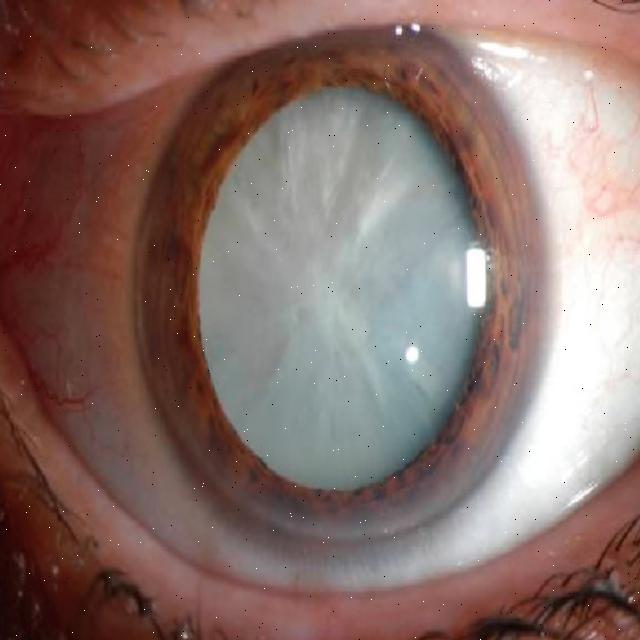Cataract: (134, 13, 559, 544)
